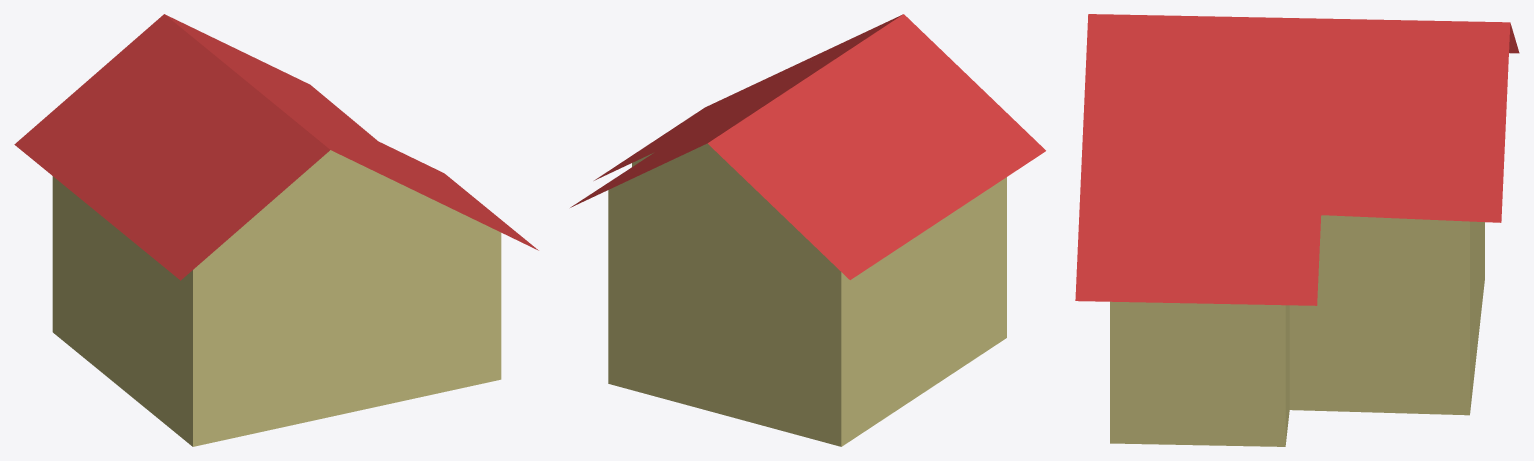
The picture shows the model from 3 angles, left to right: view 1: azimuth 30°, elevation 25°; view 2: azimuth 150°, elevation 25°; view 3: azimuth 270°, elevation 25°; orthographic projection. The views are drawn at different scales.
Bounding box in the file's own units: 14.56 × 13.41 × 10.9.
